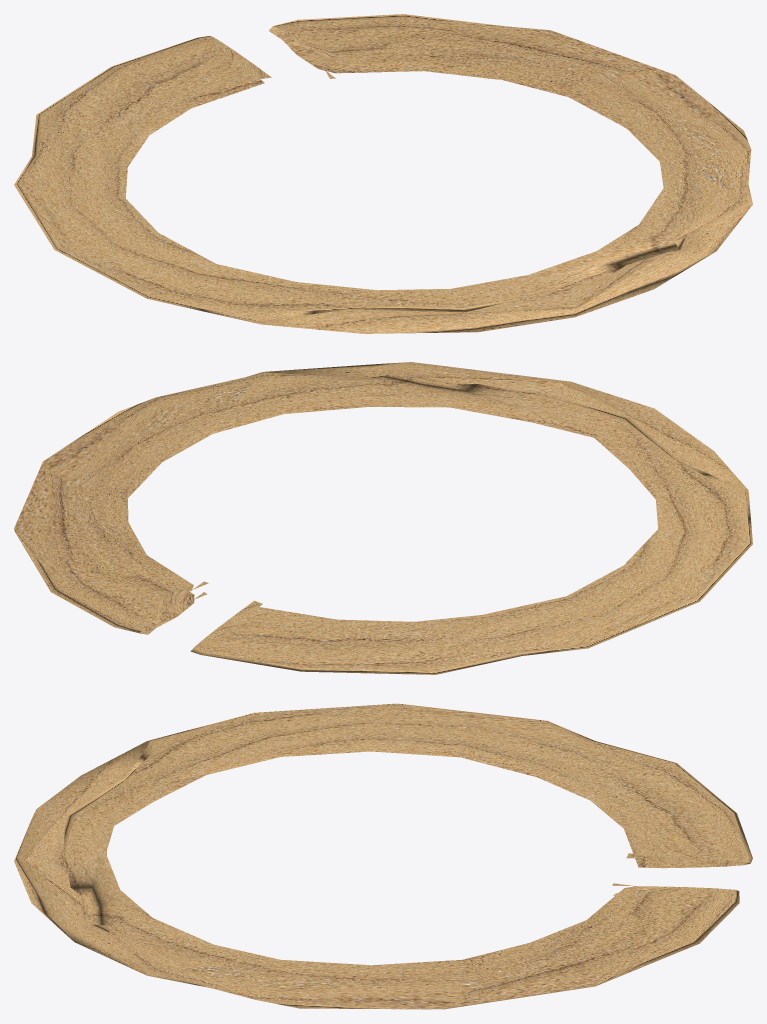
Rendered from PisoArena.obj.
3 renders of one model, top to bottom at view 1: azimuth 30°, elevation 25°; view 2: azimuth 150°, elevation 25°; view 3: azimuth 270°, elevation 25°, orthographic. The views are drawn at different scales.
Visible parts, largest first — view 1: pTorus1; view 2: pTorus1; view 3: pTorus1.
Boxes of the visible parts, x1,y1,x2,y2 form: pTorus1: (14,14,752,333); pTorus1: (14,362,752,674); pTorus1: (14,703,752,1009).
Size of the model in its own units: 22.35 by 0.35 by 22.73.
1 material, 1 textured.
